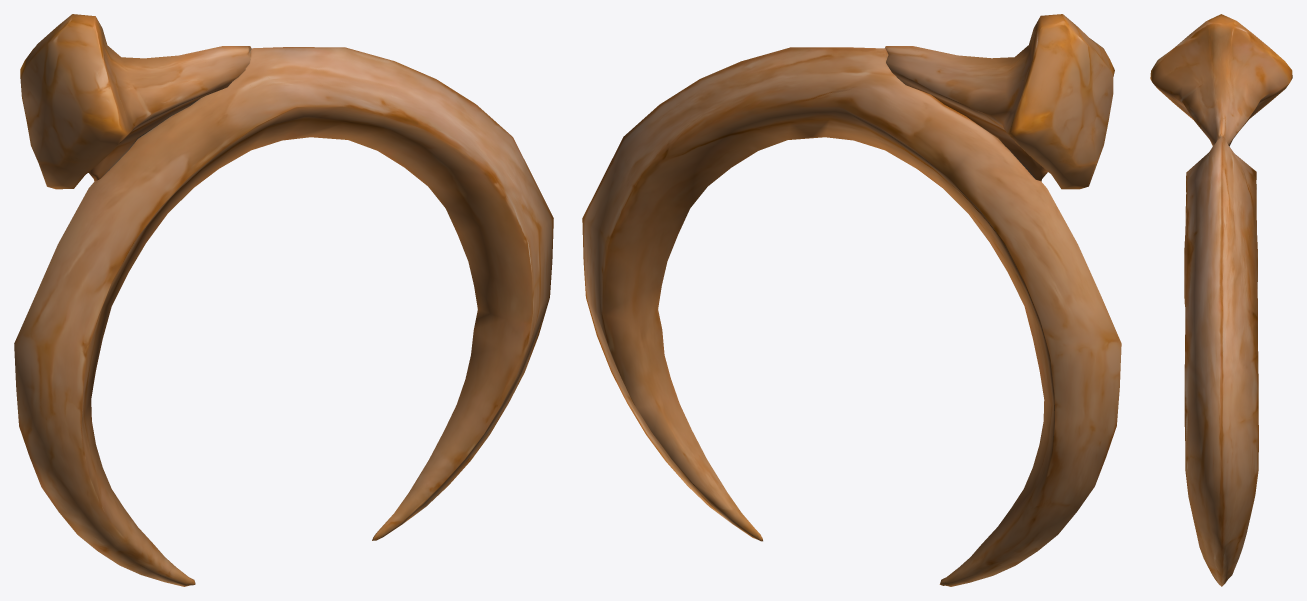
File: Rib.glb
The picture shows the model from 3 angles, left to right: view 1: azimuth 30°, elevation 25°; view 2: azimuth 150°, elevation 25°; view 3: azimuth 270°, elevation 25°; orthographic projection. The views are drawn at different scales.
Parts seen in each view (by area): view 1: geometry_0; view 2: geometry_0; view 3: geometry_0.
Boxes of the visible parts, x1,y1,x2,y2 form: geometry_0: (14,14,553,586); geometry_0: (582,14,1121,586); geometry_0: (1150,14,1292,586).
Size of the model in its own units: 0.9482 by 1 by 0.2823.
1 material, 1 textured.
